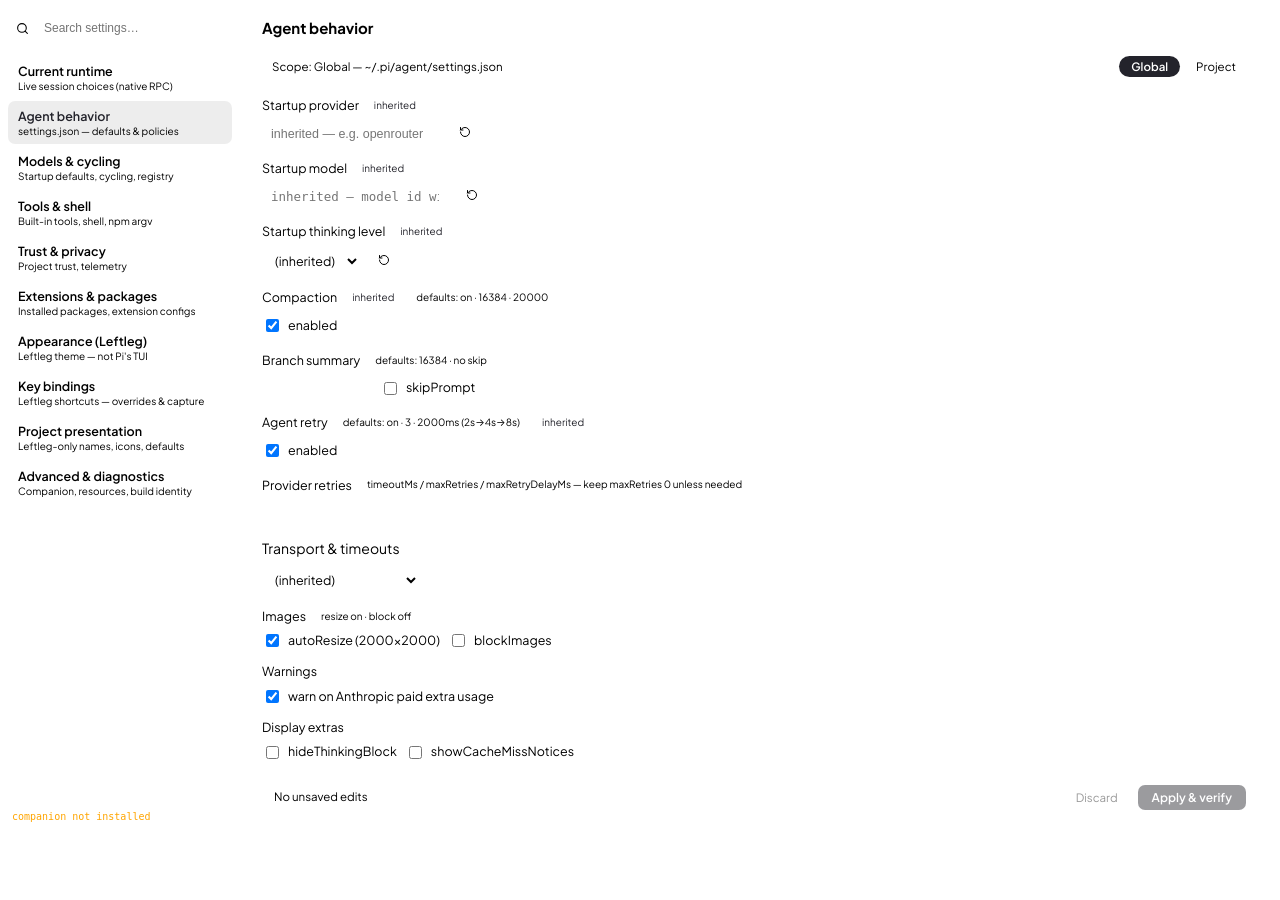
it: key binding capture wiring › applies a captured chord to the row and ends the capture
Click the button "Key bindings Leftleg shortcuts — overrides & capture" at (120, 392), box x1=8 y1=371 x2=232 y2=414
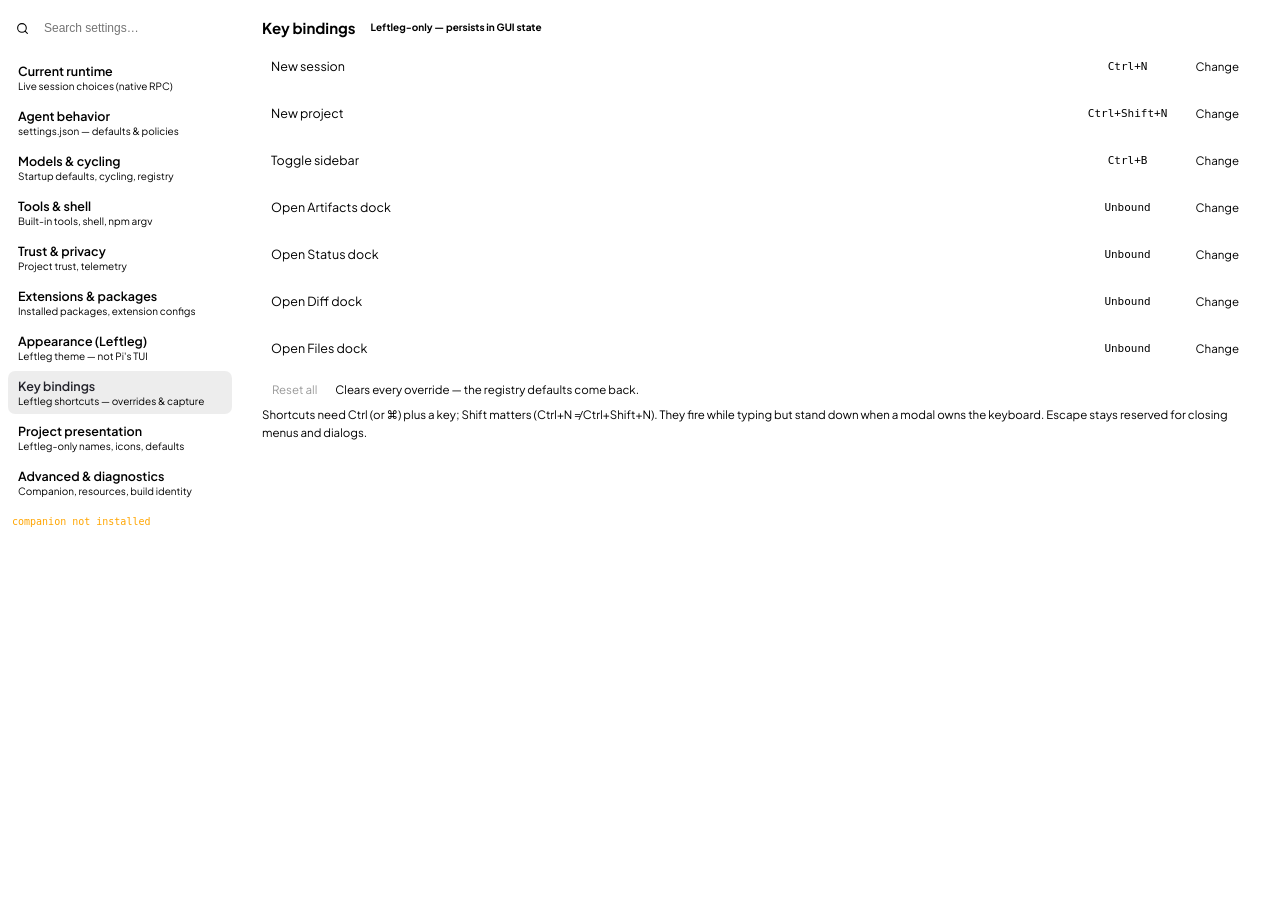
Click the button "Change" in the row of "Open Artifacts dock" at (1217, 208), box x1=1186 y1=196 x2=1249 y2=219
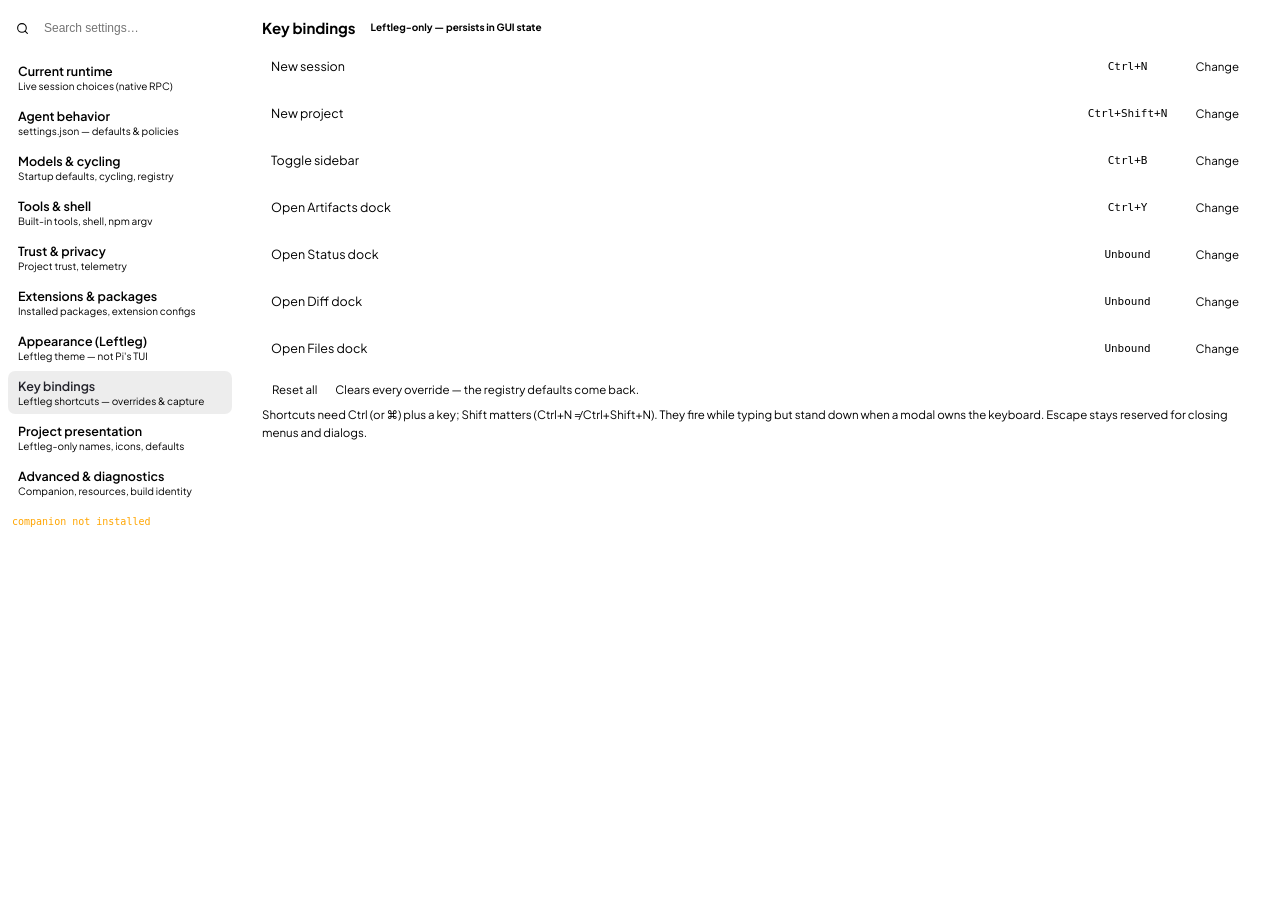
Result: the text "Ctrl+Y" is shown at x1=1108 y1=201 x2=1148 y2=214
Result: the element with class "kb-row" shows "Ctrl+Y" at x1=1108 y1=201 x2=1148 y2=214
